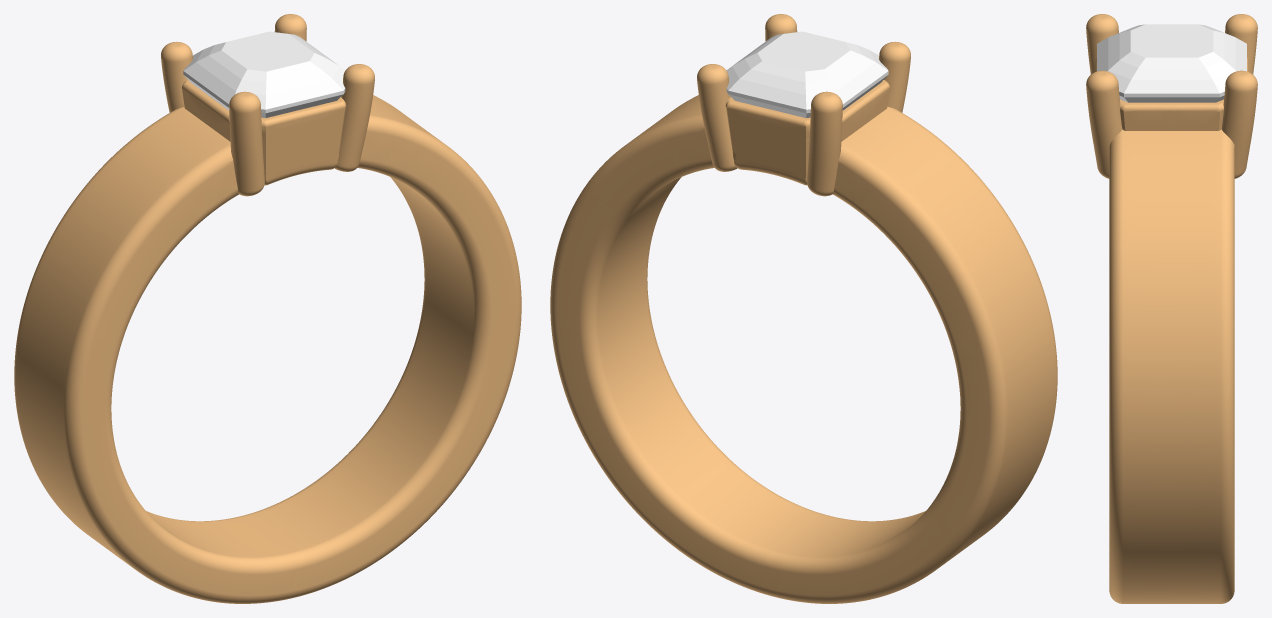
3 renders of one model, left to right at view 1: azimuth 30°, elevation 25°; view 2: azimuth 150°, elevation 25°; view 3: azimuth 270°, elevation 25°, orthographic.
Bounding box in the file's own units: 0.2016 × 0.2229 × 0.0645.
